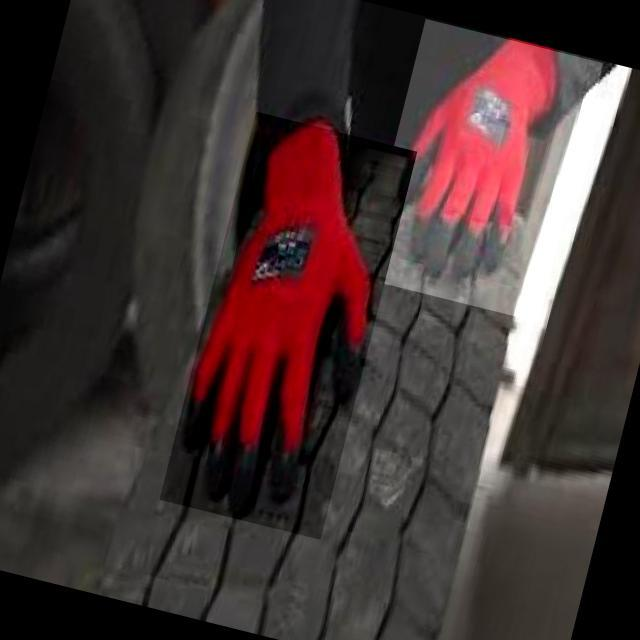Gloves: (159, 112, 417, 540), (361, 19, 603, 322)
